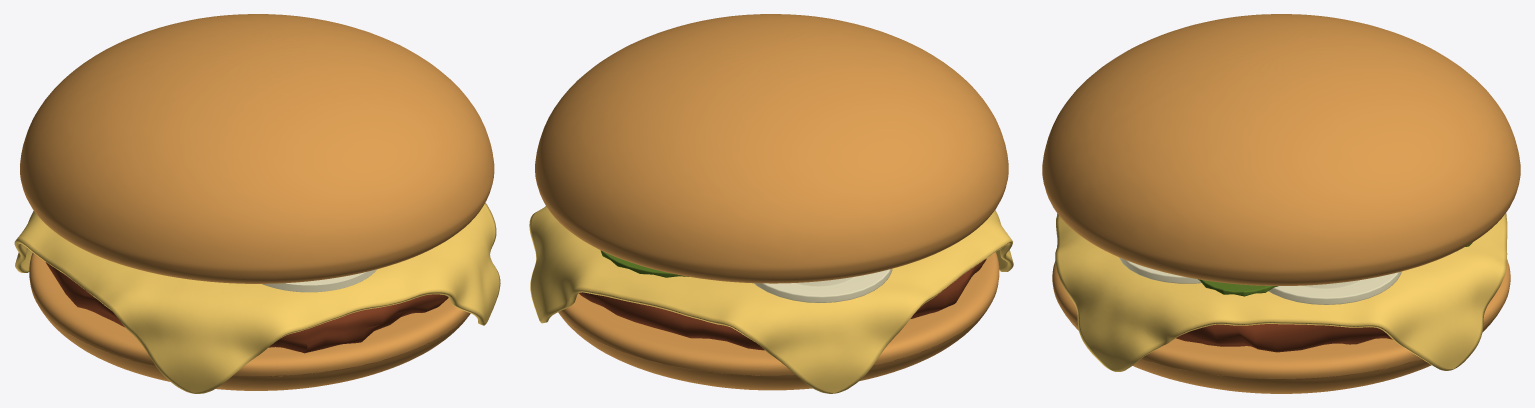
The model's file is modelDraco.gltf.
3 renders of one model, left to right at view 1: azimuth 30°, elevation 25°; view 2: azimuth 150°, elevation 25°; view 3: azimuth 270°, elevation 25°, orthographic.
Visible parts, largest first — view 1: toip bun, Plane.001, bottom bun, patty, onion.004; view 2: toip bun, Plane.001, bottom bun, patty, onion.002, pickle; view 3: toip bun, Plane.001, bottom bun, patty, onion.001, onion.003, pickle.001.
Part boxes in pixels (left/top/right/bottom): toip bun: left=20, top=14, right=494, bottom=283; Plane.001: left=14, top=203, right=500, bottom=393; bottom bun: left=29, top=253, right=470, bottom=390; patty: left=45, top=262, right=448, bottom=353; onion.004: left=262, top=269, right=376, bottom=292; toip bun: left=535, top=14, right=1008, bottom=283; Plane.001: left=529, top=206, right=1013, bottom=393; bottom bun: left=558, top=252, right=999, bottom=390; patty: left=579, top=258, right=986, bottom=350; onion.002: left=754, top=269, right=892, bottom=302; pickle: left=600, top=250, right=688, bottom=277; toip bun: left=1042, top=14, right=1520, bottom=285; Plane.001: left=1055, top=213, right=1507, bottom=371; bottom bun: left=1052, top=259, right=1510, bottom=393; patty: left=1176, top=324, right=1392, bottom=352; onion.001: left=1268, top=271, right=1401, bottom=304; onion.003: left=1119, top=257, right=1201, bottom=283; pickle.001: left=1198, top=279, right=1278, bottom=296.
Size of the model in its own units: 1.98 by 1.37 by 1.98.
